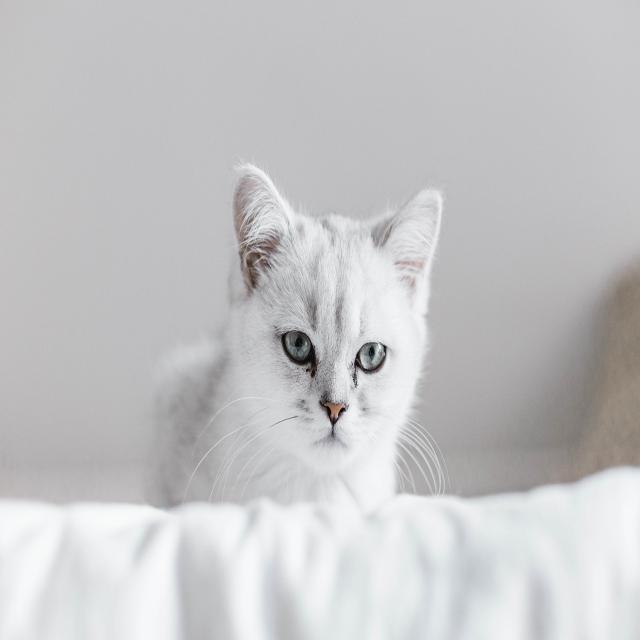cat: (151, 162, 444, 506)
